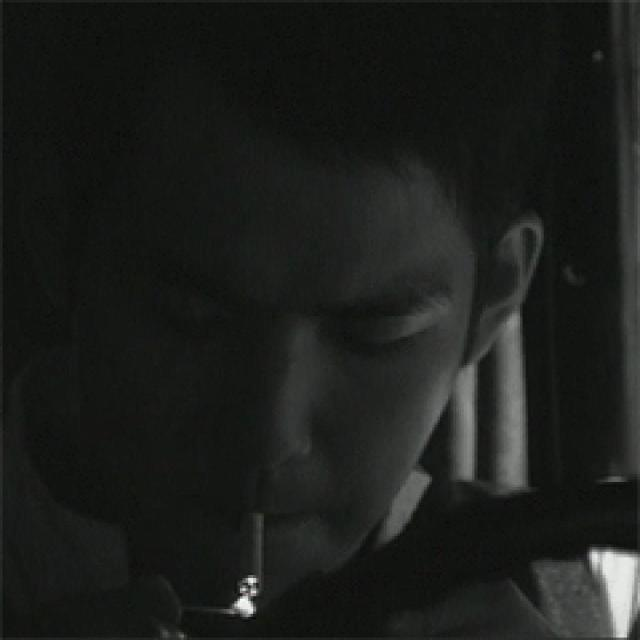smoking: (28, 7, 557, 626)
